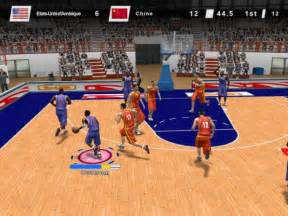basketball: (72, 126, 79, 133)
